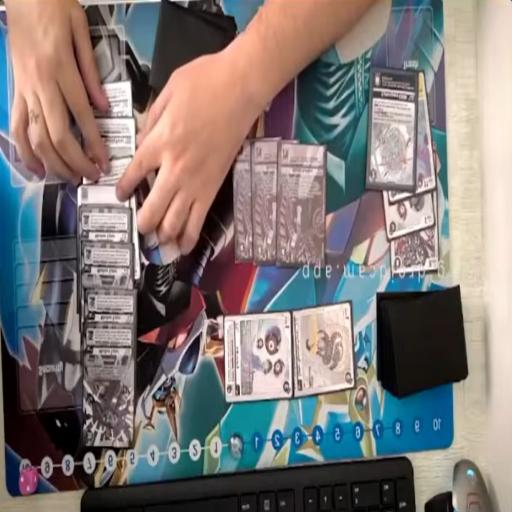card: (83, 314, 137, 448), (291, 300, 356, 402), (366, 68, 419, 192), (223, 314, 295, 401), (279, 142, 326, 272), (389, 71, 434, 203), (253, 137, 280, 267), (82, 114, 137, 170), (389, 226, 444, 281), (234, 136, 256, 267), (383, 182, 432, 240), (82, 238, 136, 290), (81, 77, 133, 129), (78, 206, 135, 245), (83, 158, 137, 193), (84, 284, 141, 316), (77, 185, 129, 211)
